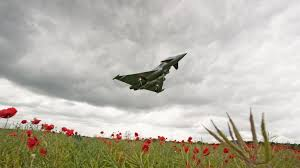fighter: (112, 51, 188, 95)
